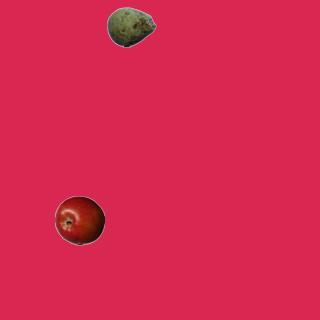Apple Braeburn: (54, 195, 104, 245)
Pear Stone: (106, 2, 156, 52)
